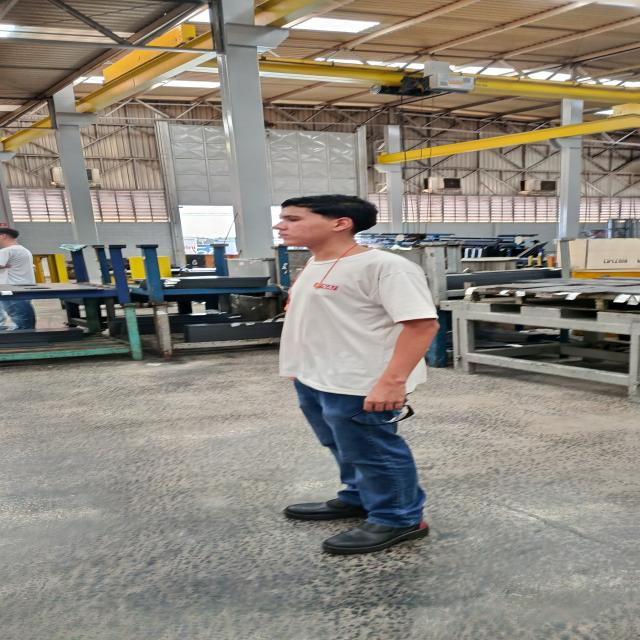sem_oculos: (268, 212, 364, 229)
